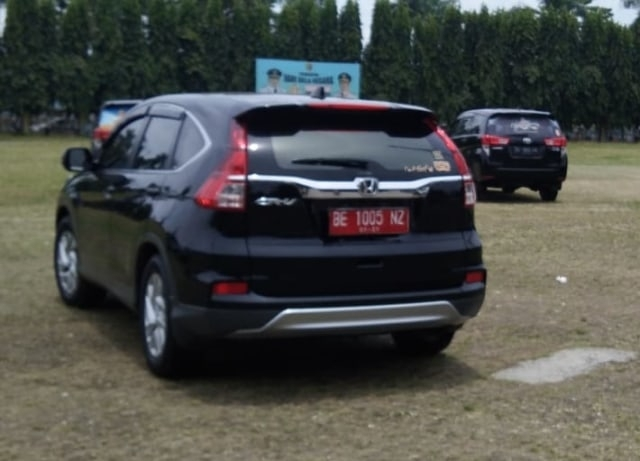plate: (330, 207, 410, 234)
